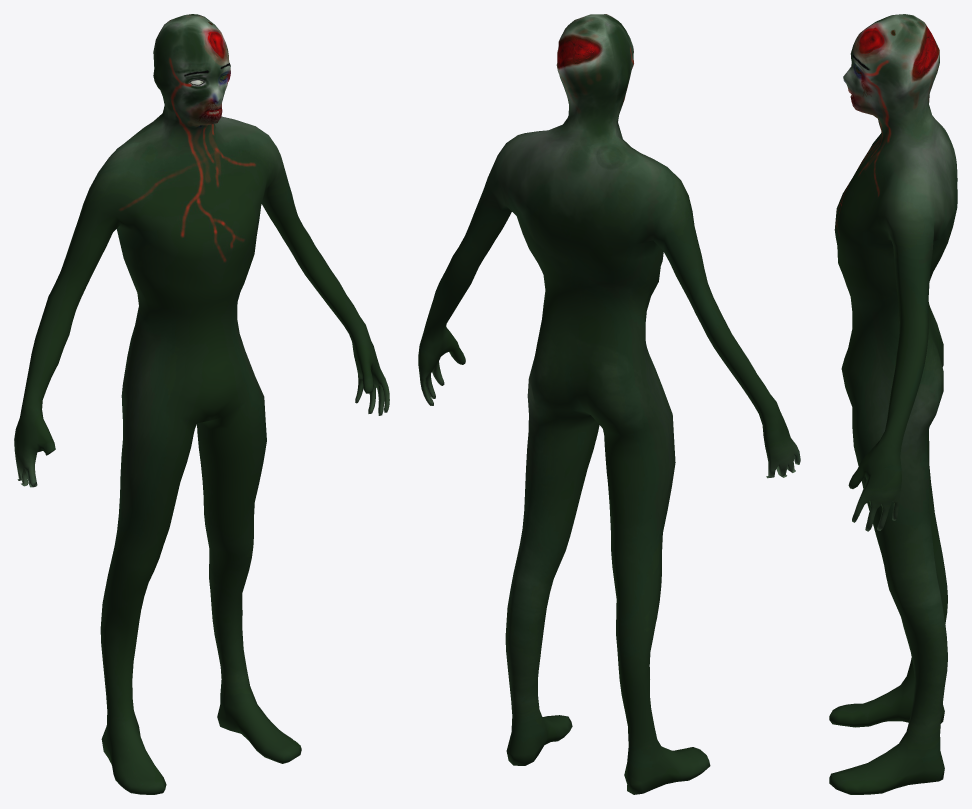
File: zombieTemp.fbx
The picture shows the model from 3 angles, left to right: view 1: azimuth 30°, elevation 25°; view 2: azimuth 150°, elevation 25°; view 3: azimuth 270°, elevation 25°; orthographic projection.
Visible parts, largest first — view 1: zombieModel; view 2: zombieModel; view 3: zombieModel.
Part boxes in pixels (bbox=[...]): zombieModel: bbox=[14, 14, 389, 794]; zombieModel: bbox=[418, 14, 800, 794]; zombieModel: bbox=[829, 14, 957, 794].
Size of the model in its own units: 93.41 by 182 by 28.7.
Materials: 1 (1 with a texture image).
